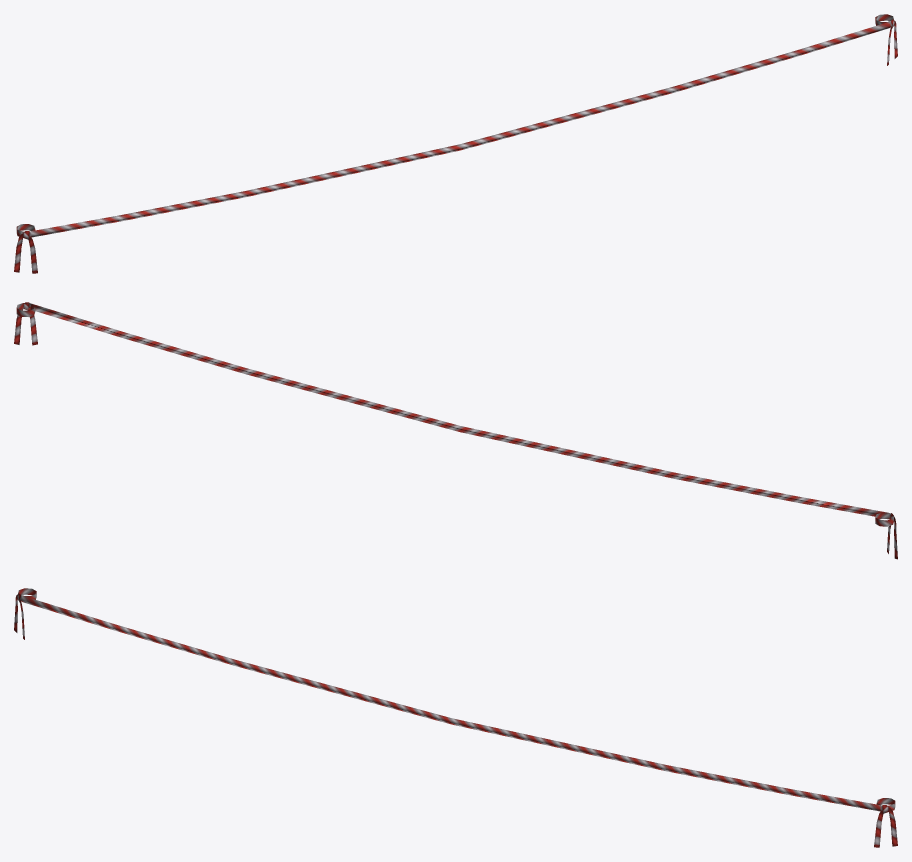
Rendered from jsf_4P_String_s02_01.fbx.
3 views of the same model, one above another, from view 1: azimuth 30°, elevation 25°; view 2: azimuth 150°, elevation 25°; view 3: azimuth 330°, elevation 25° (orthographic).
Parts seen in each view (by area): view 1: jsf_4P_String_s02_01; view 2: jsf_4P_String_s02_01; view 3: jsf_4P_String_s02_01.
Boxes of the visible parts, box(x1,y1,x2,y2) form: jsf_4P_String_s02_01: box(14, 14, 897, 273); jsf_4P_String_s02_01: box(14, 302, 897, 559); jsf_4P_String_s02_01: box(14, 588, 897, 847).
Bounding box in the file's own units: 213 × 9.85 × 5.
